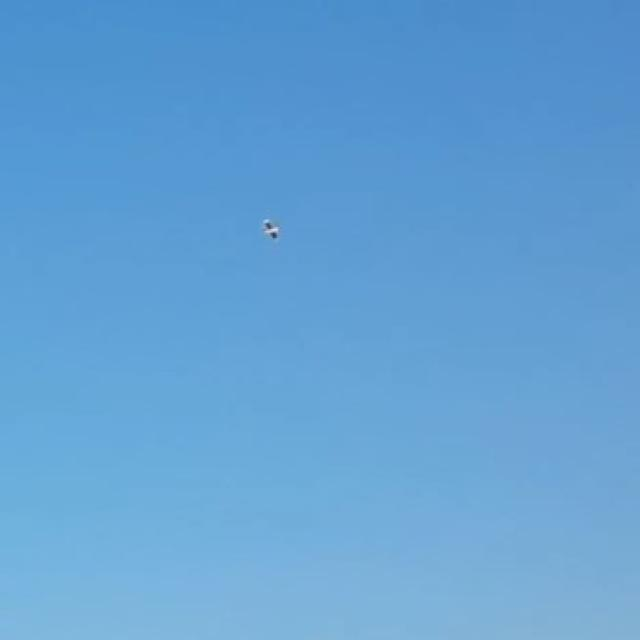iha: (261, 217, 282, 241)
